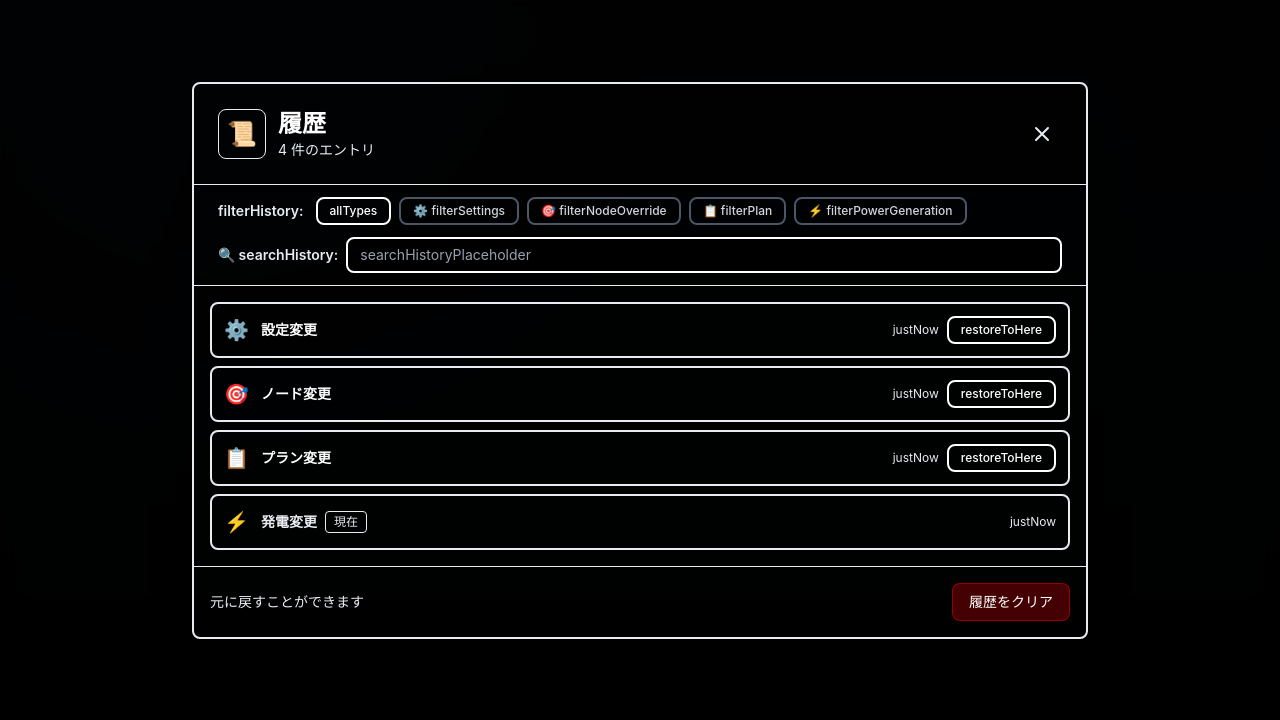
Test case: HistoryDialog › Filter Functionality › should filter plan entries
Step 1. Click the button "📋 filterPlan" → click(738, 210), box [689, 196, 786, 224]
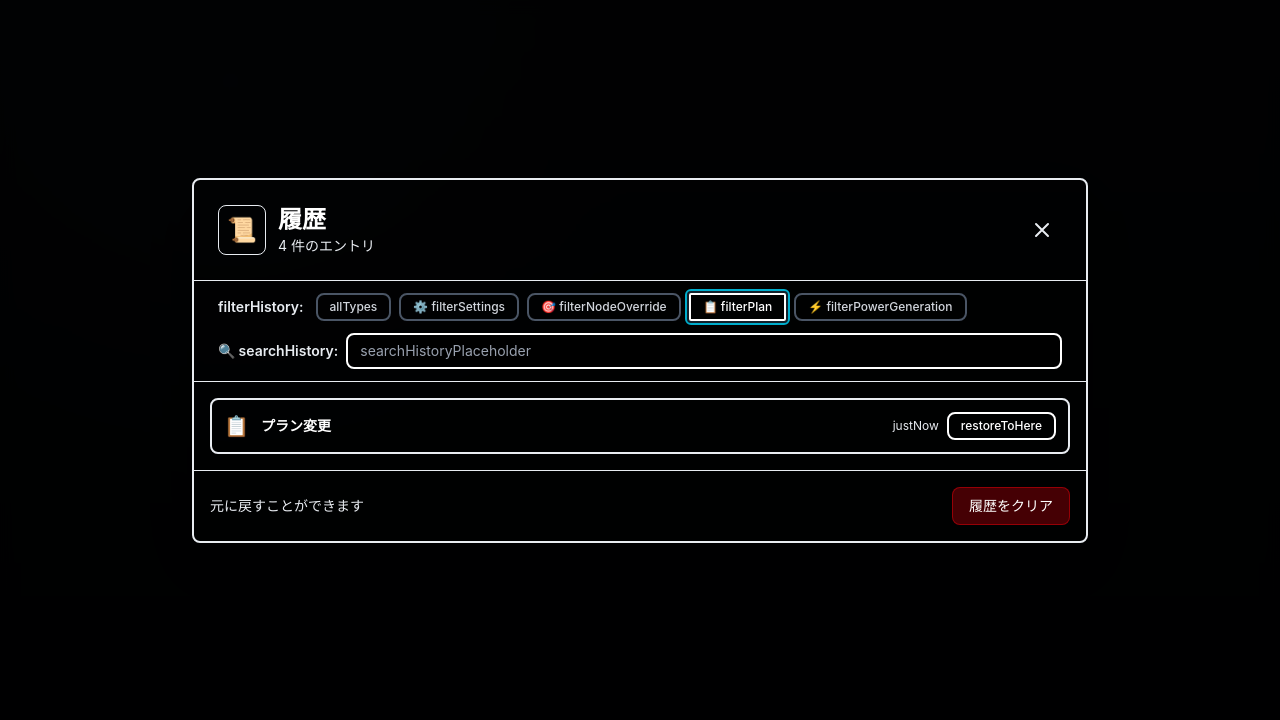
Check: the text "設定変更" is gone
Check: the text "ノード変更" is gone
Check: the text "発電変更" is gone
